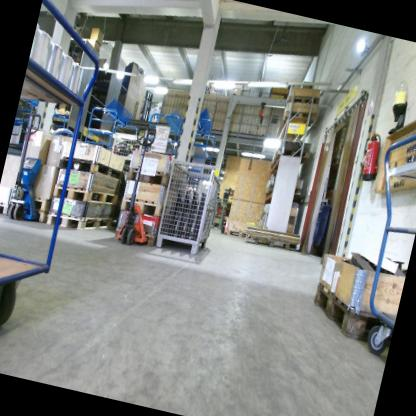pallet: (305, 276, 385, 348), (46, 201, 115, 240), (58, 153, 125, 181), (52, 180, 119, 208), (125, 161, 177, 192), (114, 192, 165, 219), (111, 225, 159, 252), (282, 98, 321, 127), (286, 82, 320, 107), (278, 145, 311, 162), (255, 236, 290, 252), (226, 230, 246, 241)
pallet_truck: (0, 105, 63, 225), (113, 125, 172, 247), (214, 186, 241, 238)
stillage: (152, 156, 225, 259), (109, 129, 146, 160)
